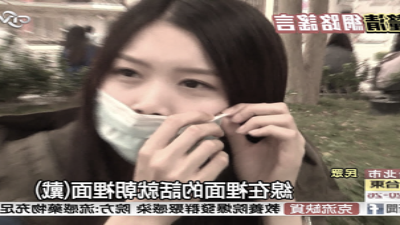mask_weared_incorrect: (90, 47, 227, 169)
